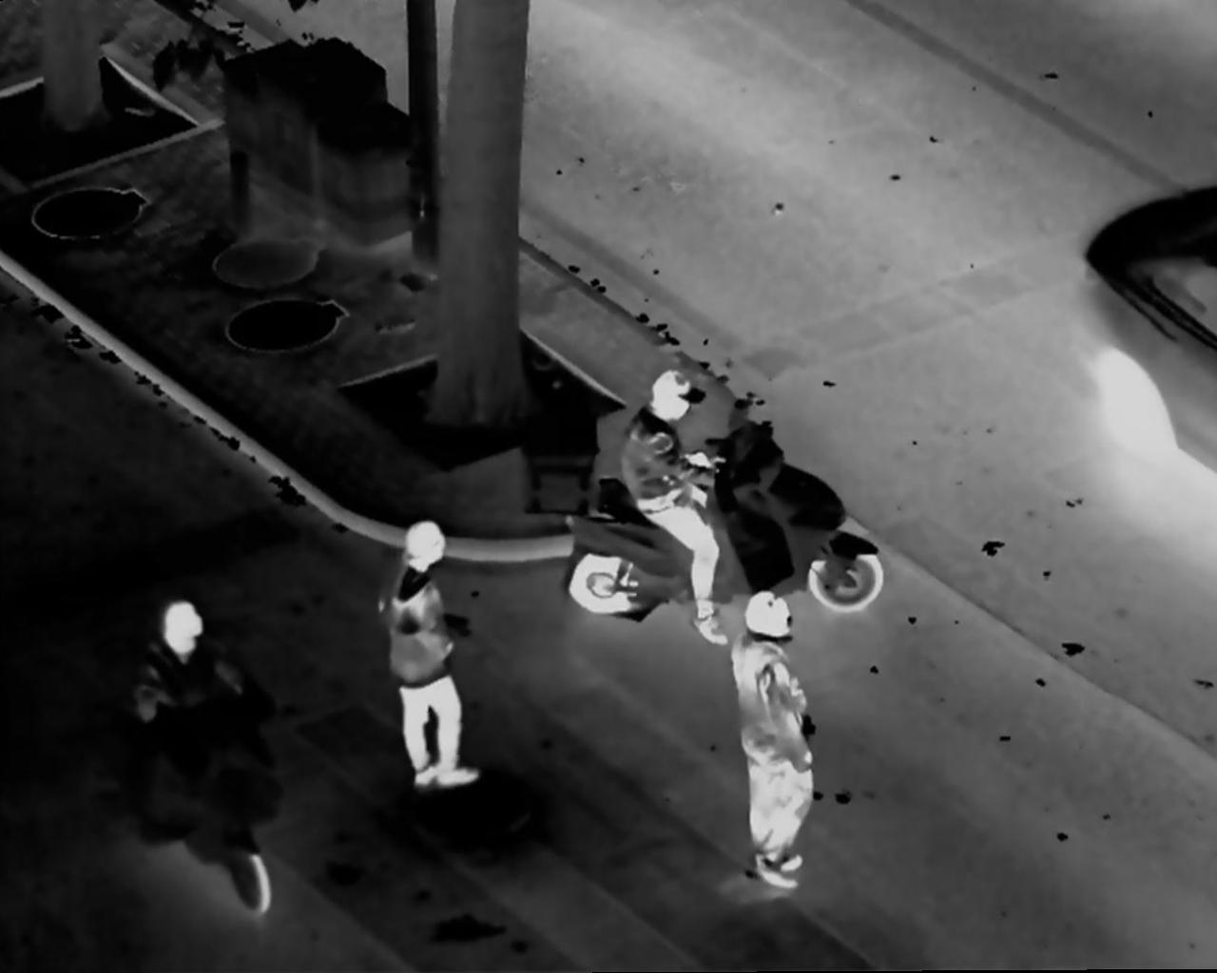person: (365, 514, 488, 794), (125, 601, 263, 845), (725, 588, 831, 897), (628, 364, 739, 651)
